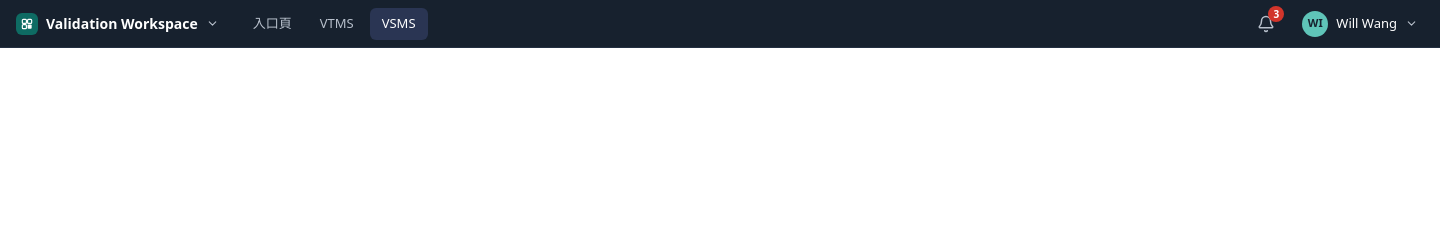
Topbar：使用者選單 › vauth 非訪客：「使用說明」在最前、「修改密碼」連到入口頁 /change-password，「登出」在分隔線之後
Click the button with aria-label "使用者選單".
click(1361, 24)  # box x1=1298 y1=8 x2=1424 y2=40
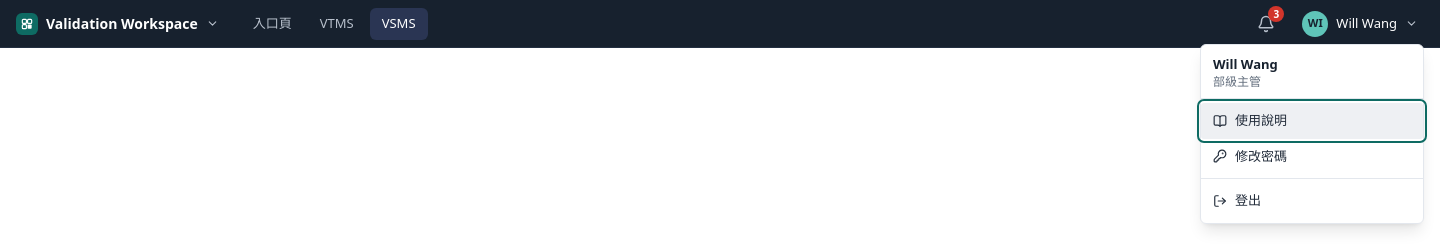
Expected: the menu items read "使用說明", "修改密碼", "登出", in this order, x1=1201 y1=103 x2=1423 y2=138; x1=1213 y1=146 x2=1287 y2=164; x1=1201 y1=183 x2=1423 y2=218
